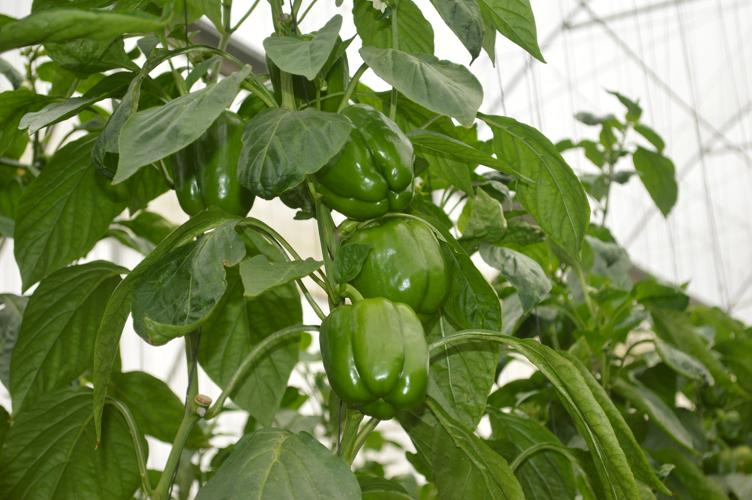BellPepper: (317, 298, 438, 429), (300, 96, 412, 220), (155, 94, 258, 222), (323, 217, 457, 313)
